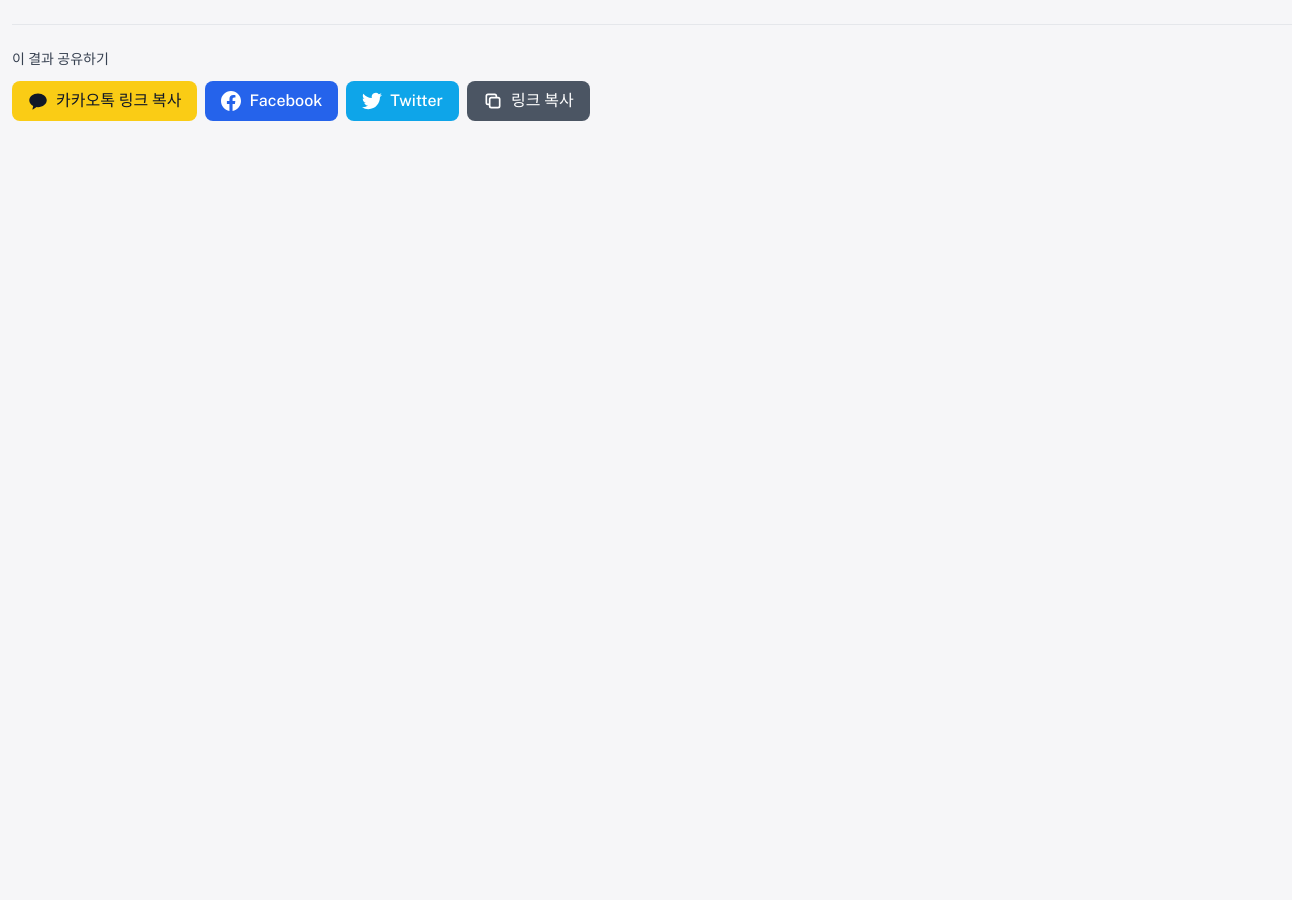
it: default sharing feedback › announces copy results without submitting an enclosing form
What coordinates should you click on to do the following:
click the button "링크 복사"
I would click on:
 (528, 101)
Its box is [467,81,590,121].
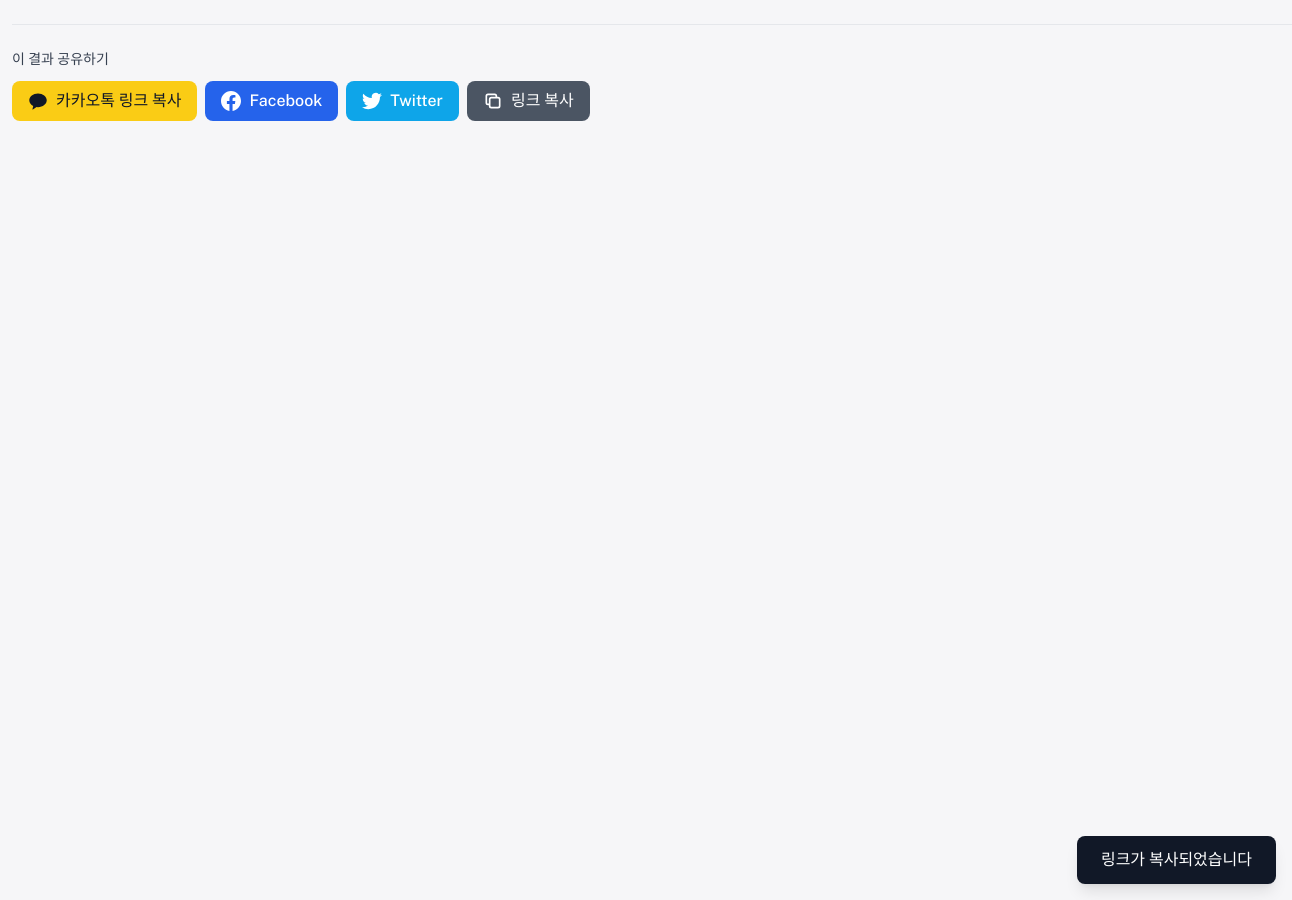
Result: the message reads "링크가 복사되었습니다" at [1101,850,1252,869]
